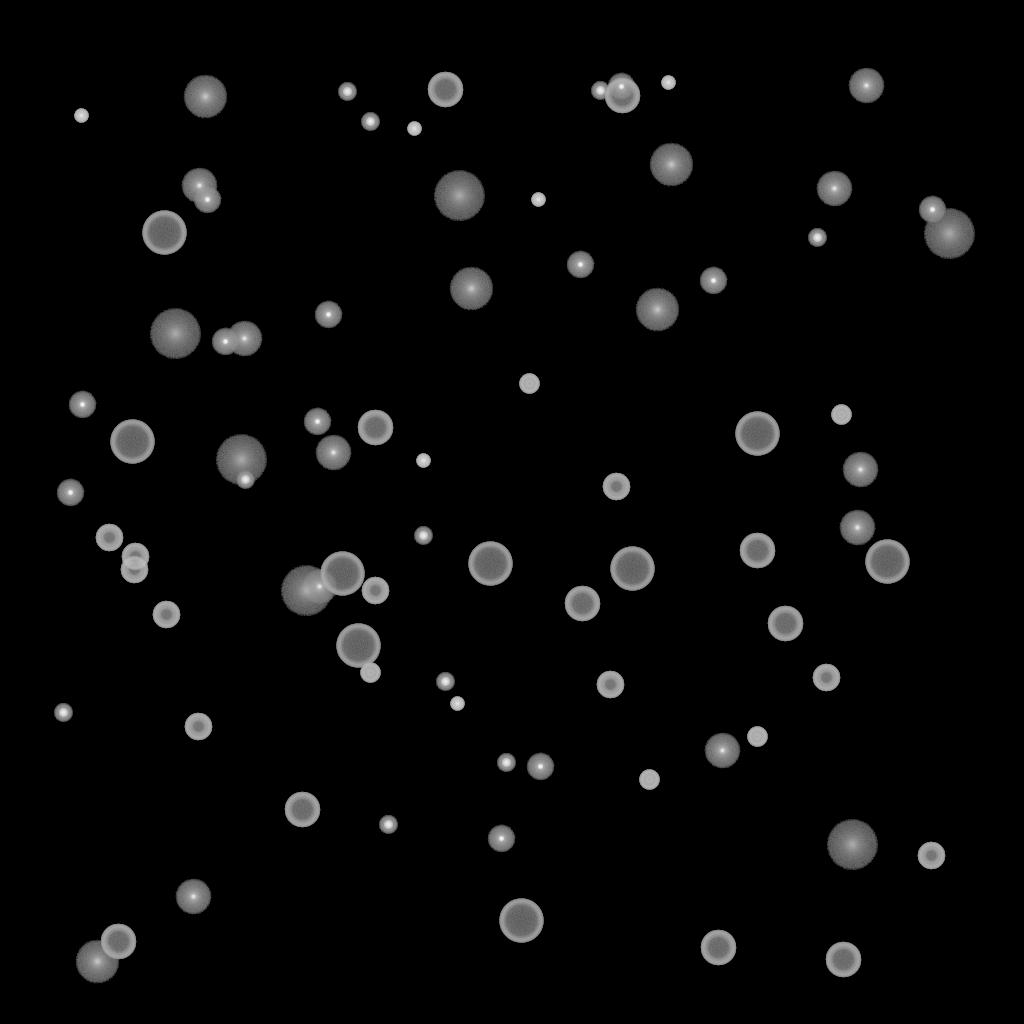depth:-10: (211, 328, 239, 356), (303, 408, 331, 436), (566, 251, 594, 279), (607, 73, 635, 101), (487, 825, 515, 853), (193, 186, 221, 214), (918, 196, 946, 224), (526, 753, 554, 781), (56, 479, 84, 507), (314, 301, 342, 329), (68, 391, 96, 419), (699, 267, 727, 295)
depth:-20: (54, 704, 72, 722), (236, 471, 254, 489), (338, 83, 356, 101), (436, 673, 454, 691), (361, 113, 379, 131), (414, 527, 432, 545), (591, 82, 609, 100), (808, 229, 826, 247), (497, 754, 515, 772), (379, 816, 397, 834)
depth:-30: (74, 109, 88, 123), (661, 76, 675, 90), (407, 122, 421, 136), (531, 193, 545, 207), (416, 454, 430, 468), (450, 697, 464, 711)
depth:-40: (360, 663, 380, 683), (519, 374, 539, 394), (639, 770, 659, 790), (747, 727, 767, 747), (831, 405, 851, 425)
depth:-50: (812, 664, 840, 692), (596, 671, 624, 699), (602, 473, 630, 501), (917, 842, 945, 870), (152, 601, 180, 629), (121, 543, 149, 571), (95, 524, 123, 552), (184, 713, 212, 741), (120, 556, 148, 584), (361, 577, 389, 605)
depth:-60: (284, 792, 320, 828), (564, 586, 600, 622), (357, 410, 393, 446), (100, 924, 136, 960), (700, 930, 736, 966), (604, 78, 640, 114), (427, 72, 463, 108), (825, 942, 861, 978), (739, 533, 775, 569), (767, 606, 803, 642)
depth:-70: (468, 542, 512, 586), (142, 211, 186, 255), (499, 899, 543, 943), (320, 552, 364, 596), (865, 540, 909, 584), (110, 420, 154, 464), (336, 624, 380, 668), (735, 412, 779, 456), (610, 547, 654, 591)
depth:0: (315, 435, 351, 471), (181, 168, 217, 204), (301, 569, 337, 605), (175, 879, 211, 915), (839, 510, 875, 546), (848, 68, 884, 104), (842, 452, 878, 488), (704, 733, 740, 769), (816, 171, 852, 207), (226, 321, 262, 357)
depth:10: (649, 143, 693, 187), (75, 940, 119, 984), (183, 75, 227, 119), (449, 267, 493, 311), (635, 288, 679, 332)
depth:20: (826, 820, 878, 870), (280, 566, 332, 616), (215, 435, 267, 485), (433, 171, 485, 221), (923, 209, 975, 259), (149, 309, 201, 359)
